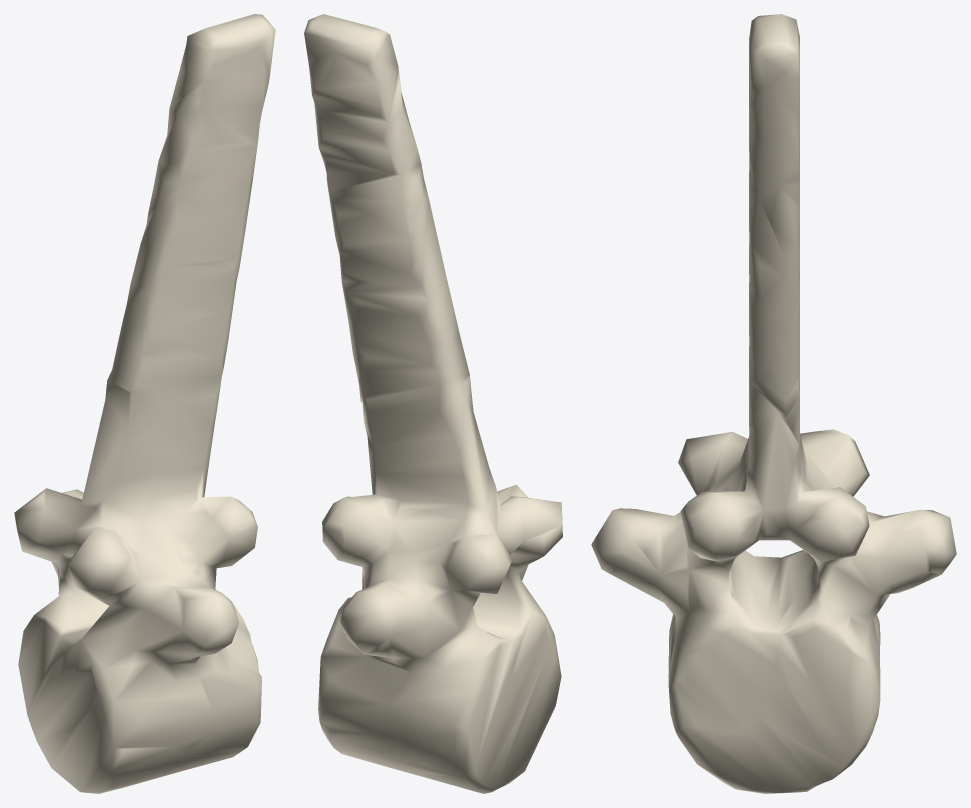
The model's file is thoracic_9.glb.
3 renders of one model, left to right at view 1: azimuth 30°, elevation 25°; view 2: azimuth 150°, elevation 25°; view 3: azimuth 270°, elevation 25°, orthographic. The views are drawn at different scales.
Parts seen in each view (by area): view 1: geometry_0; view 2: geometry_0; view 3: geometry_0.
Part boxes in pixels (x1,y1,x2,y2): geometry_0: [14, 14, 275, 793]; geometry_0: [304, 14, 562, 793]; geometry_0: [591, 14, 956, 793].
Bounding box in the file's own units: 0.1557 × 0.4762 × 0.2009.
